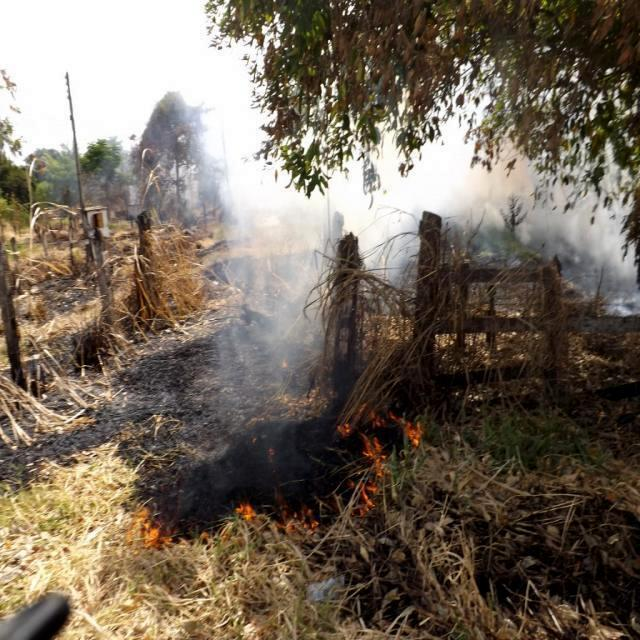Fire: (354, 434, 391, 516), (390, 412, 428, 449)
Smoke: (97, 3, 471, 462), (362, 121, 630, 309)
